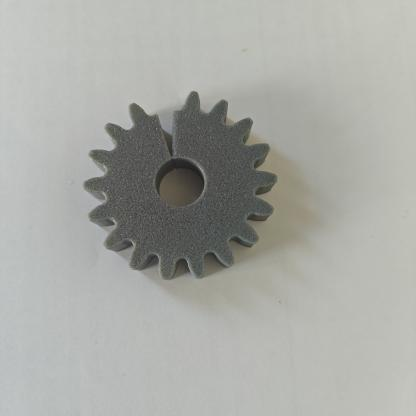defect: (122, 81, 235, 184)
gear: (77, 74, 295, 292)
